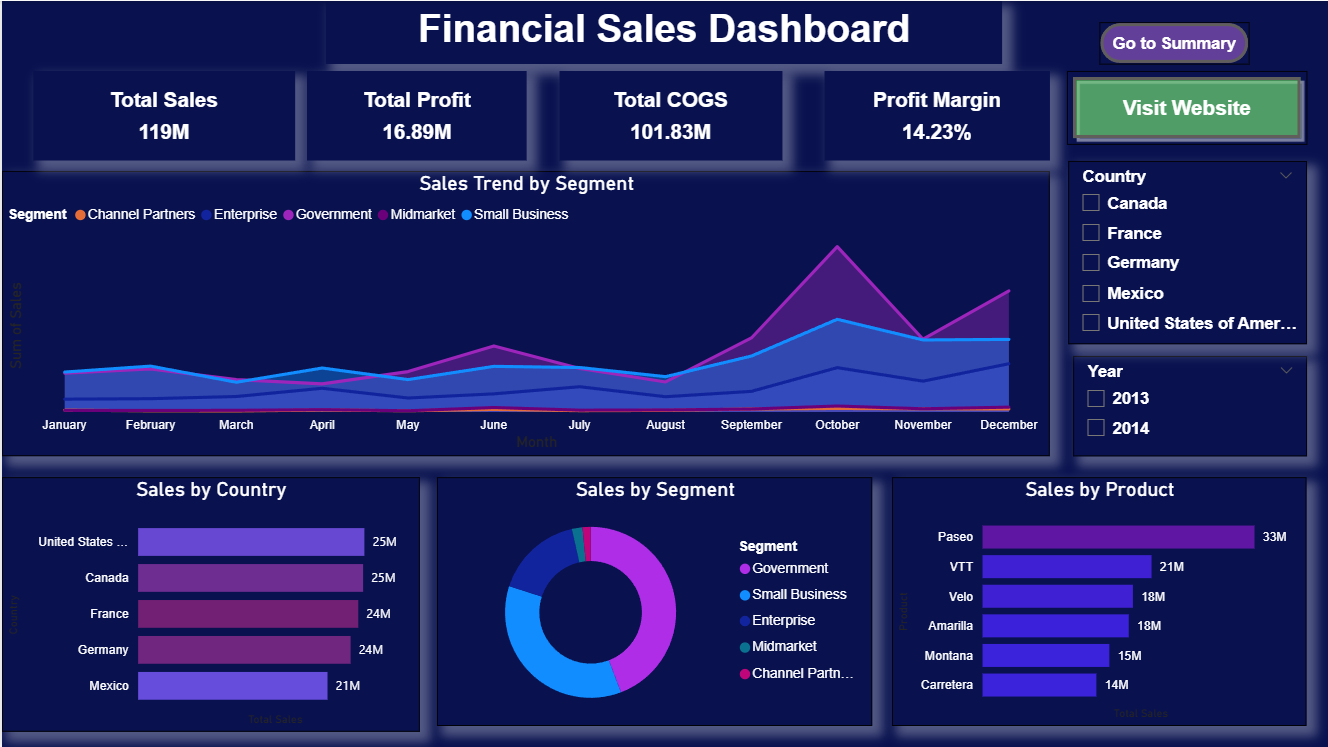

This screenshot's page, from the dashboard's own definition file:
{"tool":"powerbi","page":{"name":"Sales Dashboard","canvas":[1280,720],"ordinal":1},"visuals":[{"type":"textbox","box":[312.7,0,653,61.1],"z":0},{"type":"clusteredBarChart","title":"Sales by Country","fields":{"Category":["financials.Country"],"Y":["financials.Total Sales"]},"box":[0,459.5,402.8,245.8],"z":1000},{"type":"donutChart","title":"Sales by Segment","fields":{"Category":["financials.Segment"],"Y":["financials.Total Sales"]},"box":[420.3,459.5,420.3,239.9],"z":2000},{"type":"clusteredBarChart","title":"Sales by Product","fields":{"Category":["financials.Product"],"Y":["financials.Total Sales"]},"box":[859.5,459.5,399.9,239.9],"z":3000},{"type":"areaChart","title":"Sales Trend by Segment","fields":{"Category":["financials.Date.Variation.Date Hierarchy.Month"],"Series":["financials.Segment"],"Y":["Sum(financials. Sales)"]},"box":[0,164.5,1011.4,275.6],"z":4000},{"type":"cardVisual","fields":{"Data":["financials.Total Sales"]},"box":[30.3,67.8,252.5,86.6],"z":5000},{"type":"cardVisual","fields":{"Data":["financials.Total Profit"]},"box":[294.3,67.8,212.1,86.6],"z":6000},{"type":"cardVisual","fields":{"Data":["financials.Total COGS"]},"box":[538.2,67.8,215,86.6],"z":7000},{"type":"cardVisual","fields":{"Data":["financials.Profit Margin"]},"box":[793.5,67.8,217.9,86.6],"z":8000},{"type":"slicer","fields":{"Values":["financials.Date.Variation.Date Hierarchy.Year"]},"box":[1033.6,343.1,225.8,97],"z":9000},{"type":"slicer","fields":{"Values":["financials.Country"]},"box":[1029.3,154.9,230.2,176.6],"z":10000},{"type":"actionButton","box":[1027.8,68,231.6,70.9],"z":11000},{"type":"actionButton","box":[1059.7,20.3,144.8,40.5],"z":12000}]}

Visuals, with their boxes in screenshot pixels (x1, y1, x2, y2), scaled from the page's 1280x720 canvas onto the 1328x747 screenshot:
textbox: {"left": 324, "top": 0, "right": 1002, "bottom": 63}
"Sales by Country" clusteredBarChart: {"left": 0, "top": 477, "right": 418, "bottom": 732}
"Sales by Segment" donutChart: {"left": 436, "top": 477, "right": 872, "bottom": 726}
"Sales by Product" clusteredBarChart: {"left": 892, "top": 477, "right": 1307, "bottom": 726}
"Sales Trend by Segment" areaChart: {"left": 0, "top": 171, "right": 1049, "bottom": 457}
cardVisual - financials.Total Sales: {"left": 31, "top": 70, "right": 293, "bottom": 160}
cardVisual - financials.Total Profit: {"left": 305, "top": 70, "right": 525, "bottom": 160}
cardVisual - financials.Total COGS: {"left": 558, "top": 70, "right": 781, "bottom": 160}
cardVisual - financials.Profit Margin: {"left": 823, "top": 70, "right": 1049, "bottom": 160}
slicer - financials.Date.Variation.Date Hierarchy.Year: {"left": 1072, "top": 356, "right": 1307, "bottom": 457}
slicer - financials.Country: {"left": 1068, "top": 161, "right": 1307, "bottom": 344}
actionButton: {"left": 1066, "top": 71, "right": 1307, "bottom": 144}
actionButton: {"left": 1099, "top": 21, "right": 1250, "bottom": 63}
